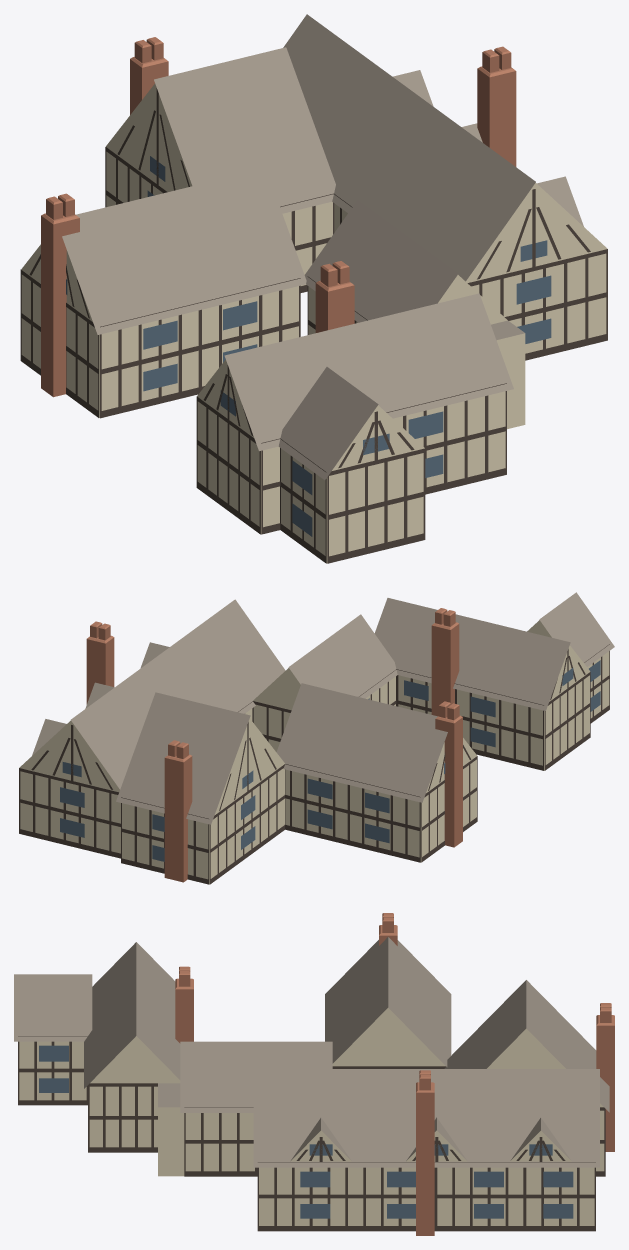
The model's file is ric-agecroft-hall.glb.
3 views of the same model, one above another, from view 1: azimuth 30°, elevation 25°; view 2: azimuth 150°, elevation 25°; view 3: azimuth 270°, elevation 25° (orthographic). The views are drawn at different scales.
Visible parts, largest first — view 1: Agecroft Hall; view 2: Agecroft Hall; view 3: Agecroft Hall.
Boxes of the visible parts, left/top/right/bottom form: Agecroft Hall: left=20, top=14, right=607, bottom=563; Agecroft Hall: left=19, top=592, right=614, bottom=884; Agecroft Hall: left=14, top=913, right=614, bottom=1235.
Bounding box in the file's own units: 36.75 × 15 × 51.95.
